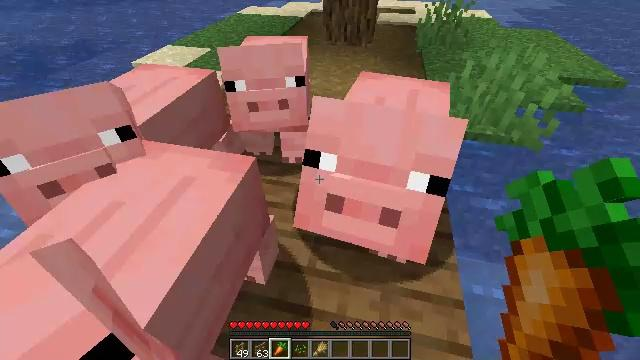pig: (0, 139, 279, 360), (0, 63, 248, 229), (293, 75, 469, 267), (215, 34, 310, 163)
